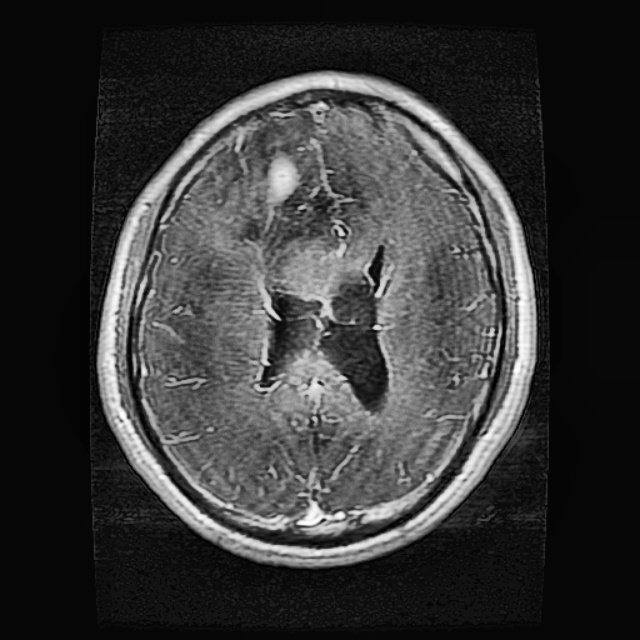Glioma: (263, 255, 387, 410)
